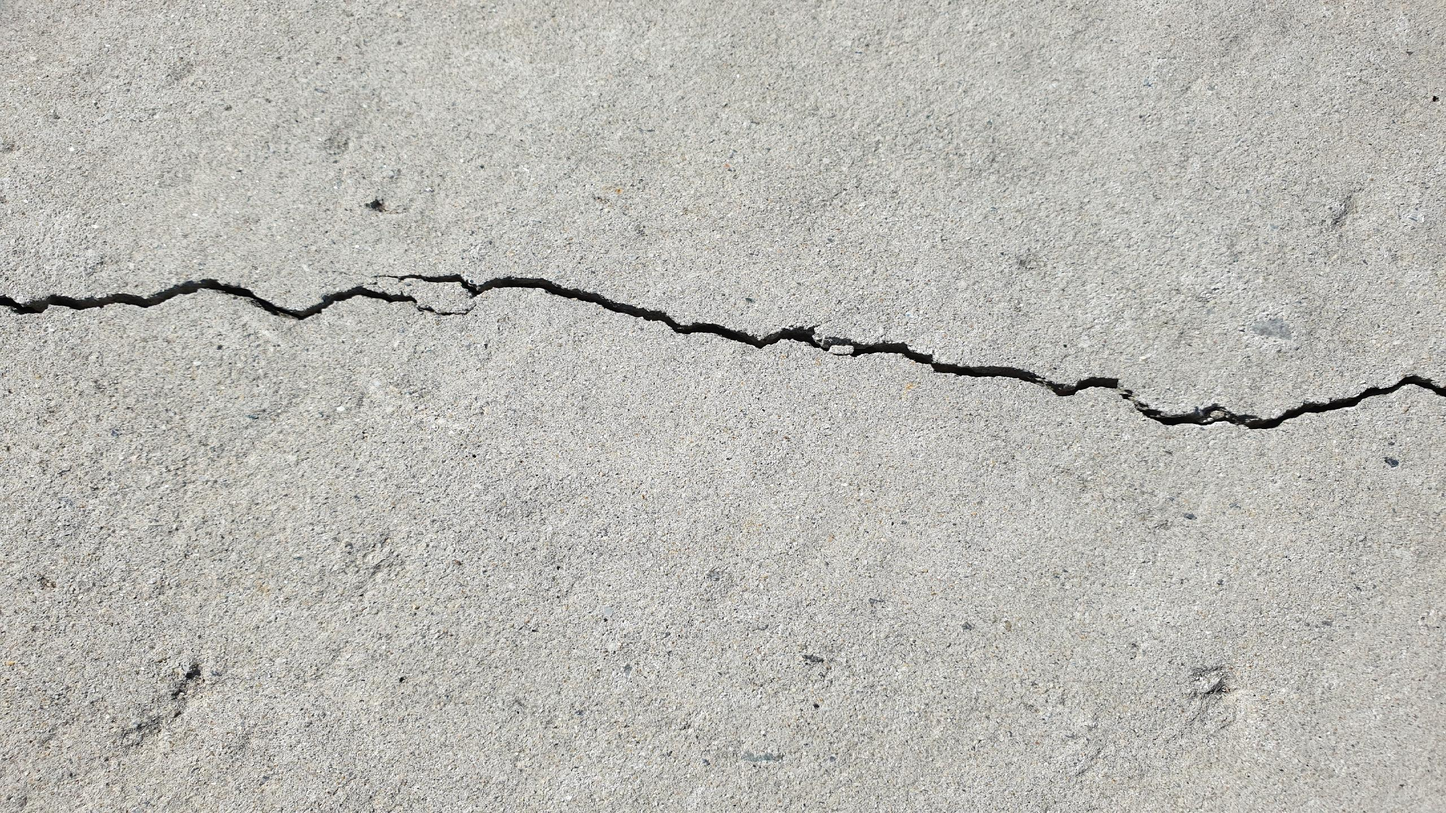crack: (382, 272, 1445, 431), (0, 277, 468, 324)
